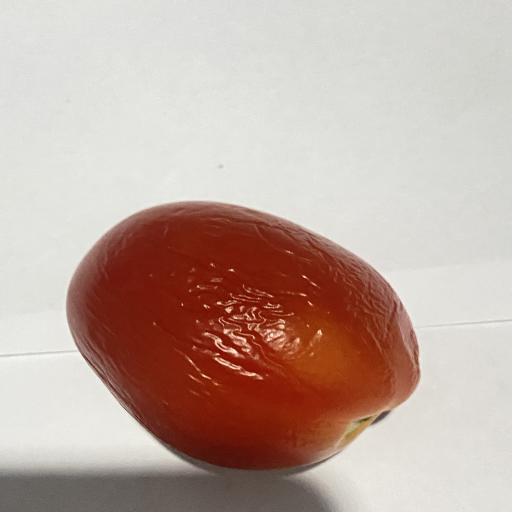spoiled: (67, 202, 419, 469)
